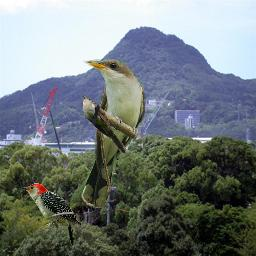Cuckoo: (81, 59, 146, 208), (82, 95, 127, 153)
Woodpecker: (20, 183, 81, 248)
